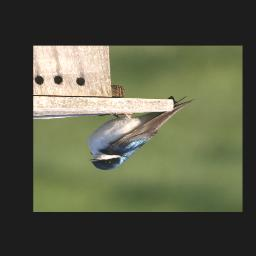Swallow: (86, 92, 197, 171)
